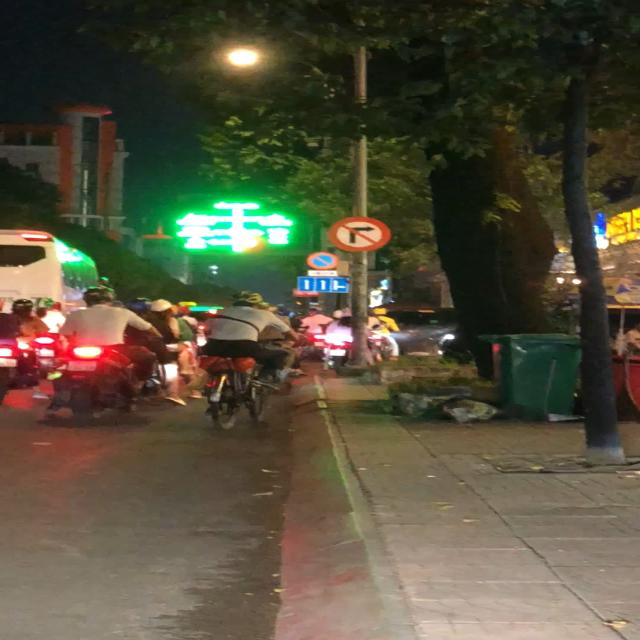Bien bao cam re phai: (328, 215, 395, 253)
